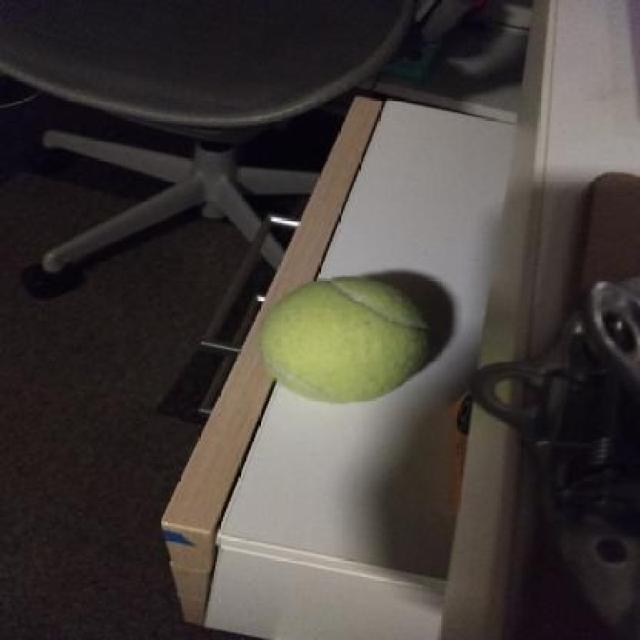Tennis_Ball: (260, 277, 434, 400)
